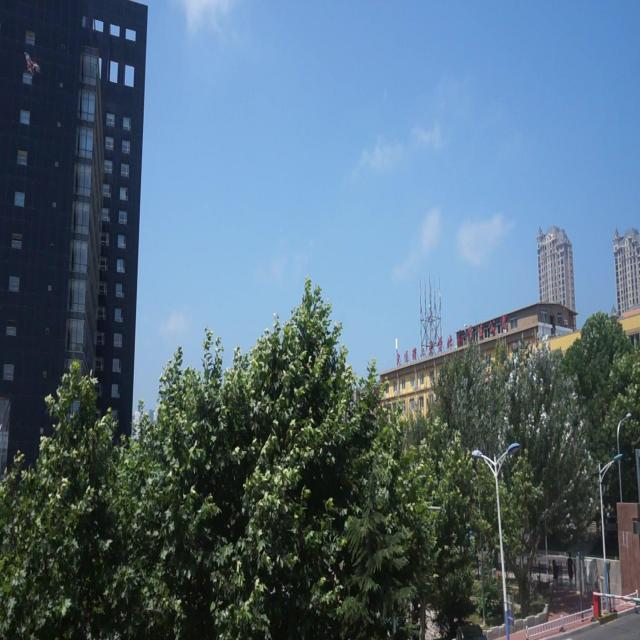UAV: (24, 51, 40, 76)
